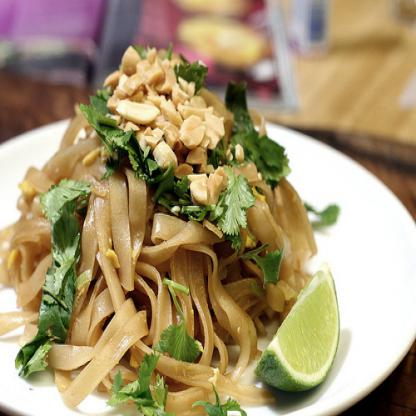Pad Thai: (3, 54, 330, 412)
